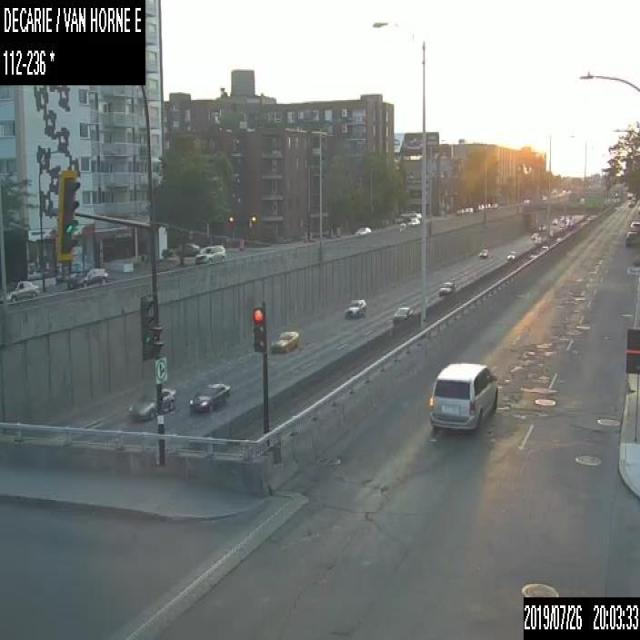vehicle: (426, 359, 498, 432), (128, 388, 176, 420), (188, 381, 231, 412), (66, 265, 108, 288), (5, 278, 38, 302), (269, 328, 298, 352), (194, 244, 226, 265), (343, 296, 368, 319), (391, 305, 414, 324), (175, 241, 199, 256), (438, 280, 456, 297), (625, 230, 639, 246), (354, 224, 371, 233), (405, 216, 420, 225), (630, 219, 639, 232), (506, 248, 516, 259), (478, 248, 487, 257), (530, 232, 538, 239), (534, 236, 541, 243), (538, 223, 544, 230), (552, 217, 556, 224), (524, 197, 529, 202)
